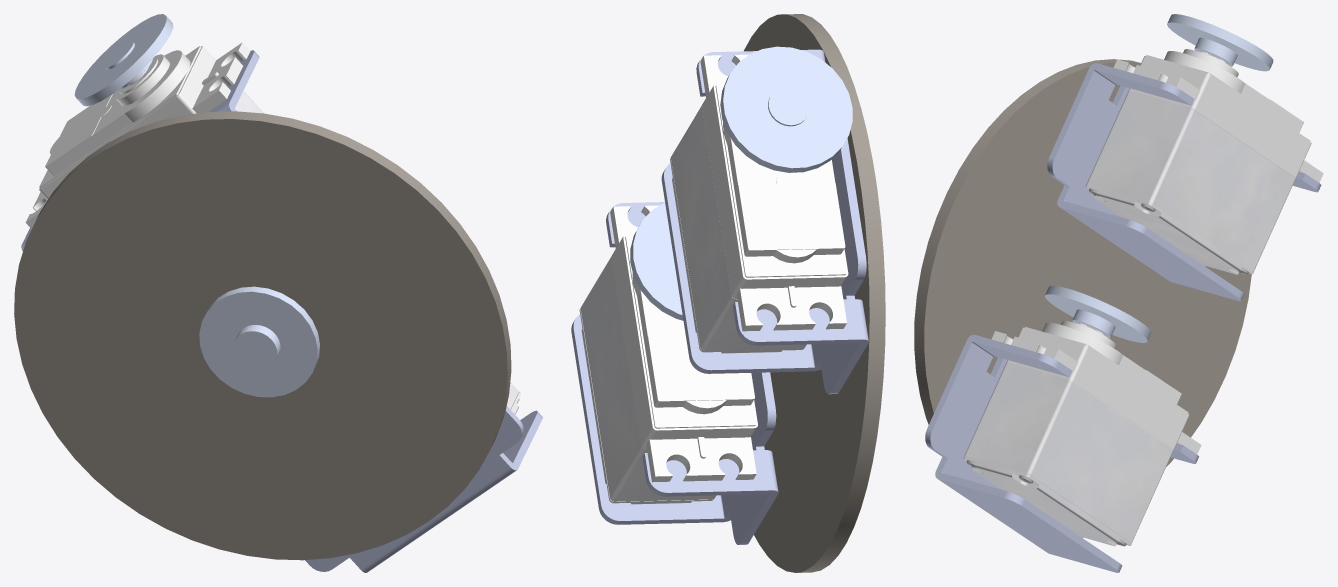
Rendered from r_shoulder_link.dae.
3 renders of one model, left to right at view 1: azimuth 30°, elevation 25°; view 2: azimuth 150°, elevation 25°; view 3: azimuth 270°, elevation 25°, orthographic. The views are drawn at different scales.
Visible parts, largest first — view 1: Actor0; view 2: Actor0; view 3: Actor0.
Boxes of the visible parts, x1,y1,x2,y2 form: Actor0: (14,14,542,572); Actor0: (571,14,885,572); Actor0: (914,14,1323,572).
Size of the model in its own units: 0.0919 by 0.1134 by 0.0875.
7 materials, 2 textured.
